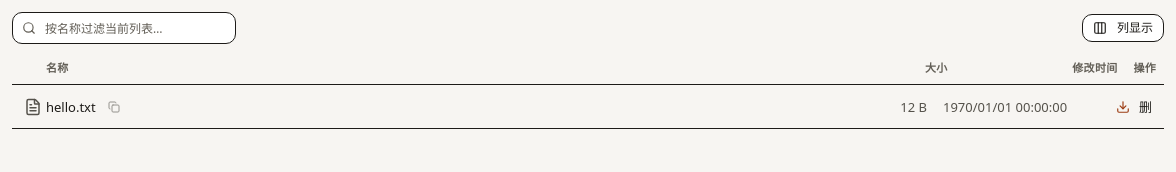
Test: copy filename button writes clipboard and toasts
Click the button named "复制文件名 hello.txt": (114, 106) 100,92 -> 128,120
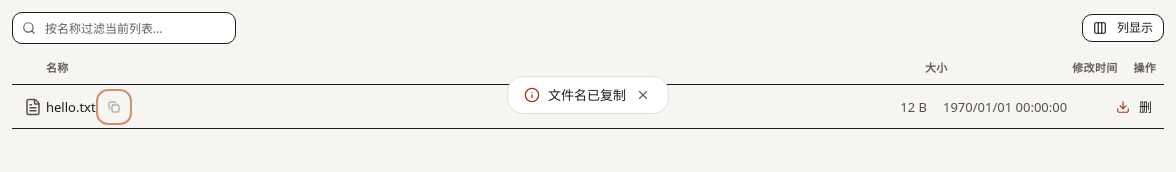
expect the text "文件名已复制" is shown: met, box 548,85 -> 626,105
